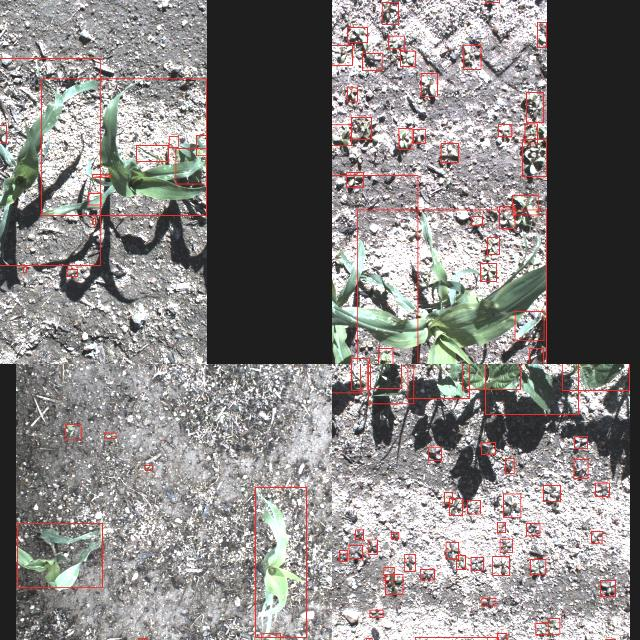crop: (357, 209, 547, 364), (41, 78, 207, 215), (0, 58, 100, 266), (332, 175, 418, 364), (256, 487, 306, 637), (17, 524, 102, 588), (485, 364, 578, 414), (407, 364, 469, 398), (562, 364, 630, 390), (462, 364, 520, 389), (516, 312, 544, 341), (370, 364, 402, 388), (529, 348, 544, 364), (197, 136, 207, 156)
weed: (368, 364, 414, 404), (176, 148, 207, 184), (522, 140, 546, 177), (137, 144, 169, 162), (526, 92, 544, 122), (512, 195, 538, 215), (351, 117, 372, 139), (351, 364, 367, 390), (464, 45, 481, 69), (332, 45, 352, 65), (332, 124, 351, 145), (420, 74, 438, 96), (492, 556, 510, 576), (382, 2, 398, 24), (504, 494, 520, 516), (441, 144, 459, 162), (362, 54, 382, 70), (386, 574, 402, 594), (398, 128, 412, 150), (500, 206, 514, 228), (346, 172, 364, 188), (481, 264, 497, 282), (524, 124, 538, 144), (347, 28, 367, 42), (574, 459, 588, 478), (65, 424, 81, 440), (544, 486, 560, 502), (600, 580, 616, 596), (449, 498, 463, 516), (378, 348, 393, 364), (530, 560, 546, 574), (446, 542, 458, 560), (538, 22, 546, 48), (388, 36, 404, 49), (487, 238, 499, 255), (400, 52, 414, 66), (428, 447, 442, 461), (596, 483, 610, 497), (348, 545, 362, 559), (548, 618, 560, 634), (471, 557, 484, 571), (405, 554, 415, 572), (498, 125, 512, 137), (413, 129, 425, 143), (574, 436, 588, 448), (481, 442, 495, 454), (468, 500, 480, 514), (500, 538, 512, 552), (526, 524, 540, 536), (89, 193, 101, 205), (536, 623, 548, 635), (347, 87, 357, 101), (420, 570, 434, 580), (367, 540, 377, 554), (456, 555, 466, 569), (506, 458, 514, 474), (261, 634, 281, 640), (592, 531, 602, 543), (384, 568, 394, 580), (482, 598, 496, 606), (351, 358, 369, 364), (0, 125, 6, 142), (496, 522, 506, 532), (170, 136, 178, 148), (339, 550, 347, 562), (472, 217, 482, 226), (444, 492, 452, 503), (355, 530, 363, 540), (66, 270, 78, 276), (370, 610, 382, 616), (497, 633, 507, 640), (93, 175, 111, 178), (104, 434, 116, 438), (391, 532, 399, 538), (144, 466, 152, 470), (92, 218, 96, 224), (137, 638, 146, 640), (24, 267, 26, 273)
